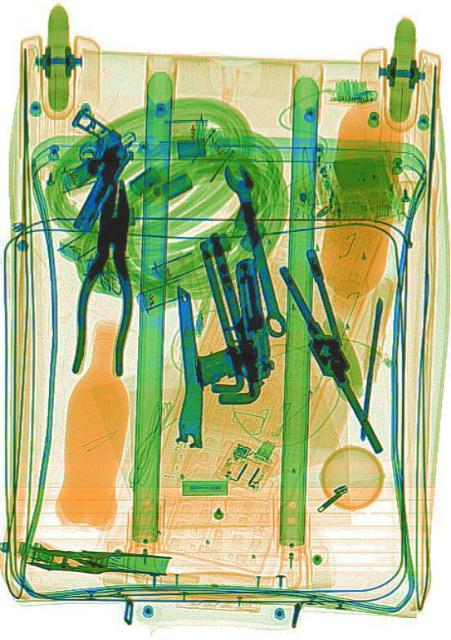Gun: (30, 98, 136, 238), (180, 253, 273, 397)
Pliers: (70, 173, 140, 379)
Wrench: (222, 155, 289, 341)
